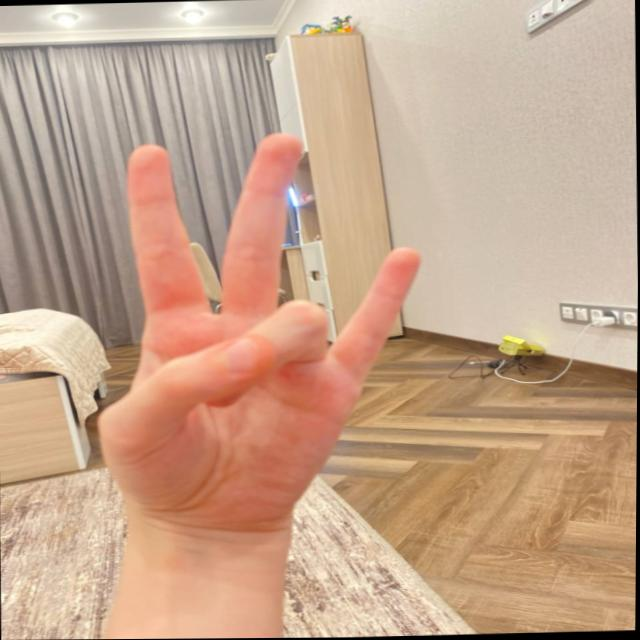n: (84, 124, 425, 527)
